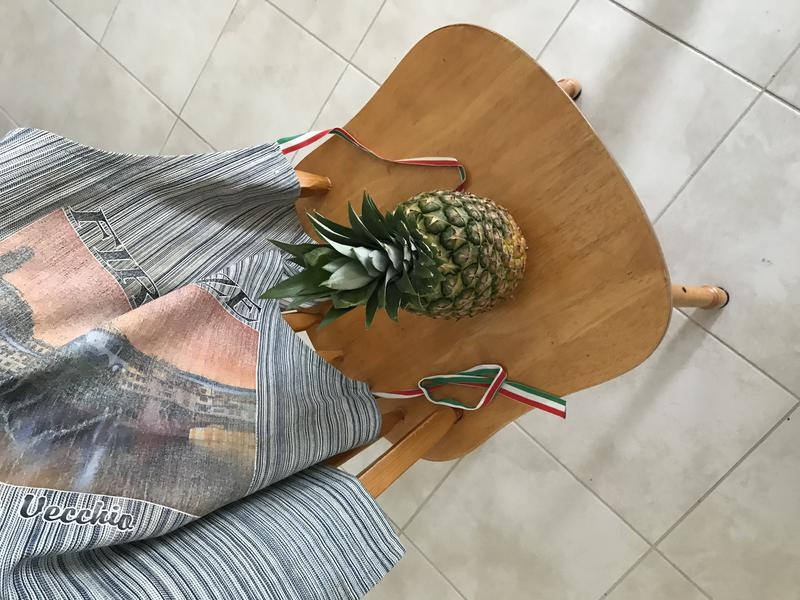pineapple: (256, 182, 530, 335)
